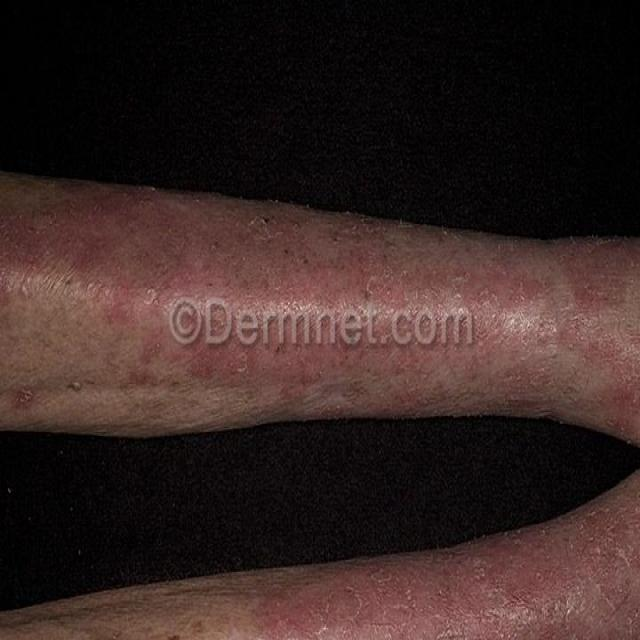Eczema: (0, 172, 626, 439), (234, 512, 640, 640)
